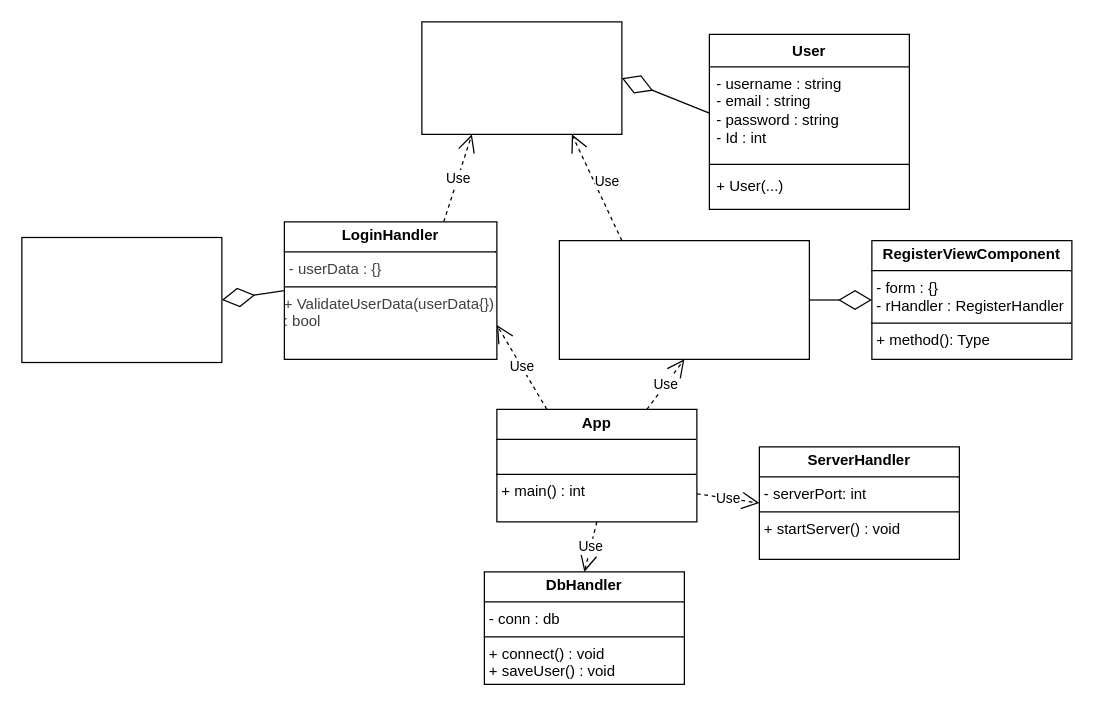
Some shapes in this 1094 by 706 pixel diagram are drawn without their labels. The centre of each missing label's shape, as x and y in pixels:
"LoginViewComponent - form {} -lHandler : LoginHandler + method(): Type" goes at pixel 121 299.
"RegisterHandler - userData : {} + validateRegister(userData{}) : bool" goes at pixel 683 299.
"UserFactory - user : User + createUserInstance(user) : User" goes at pixel 521 77.
